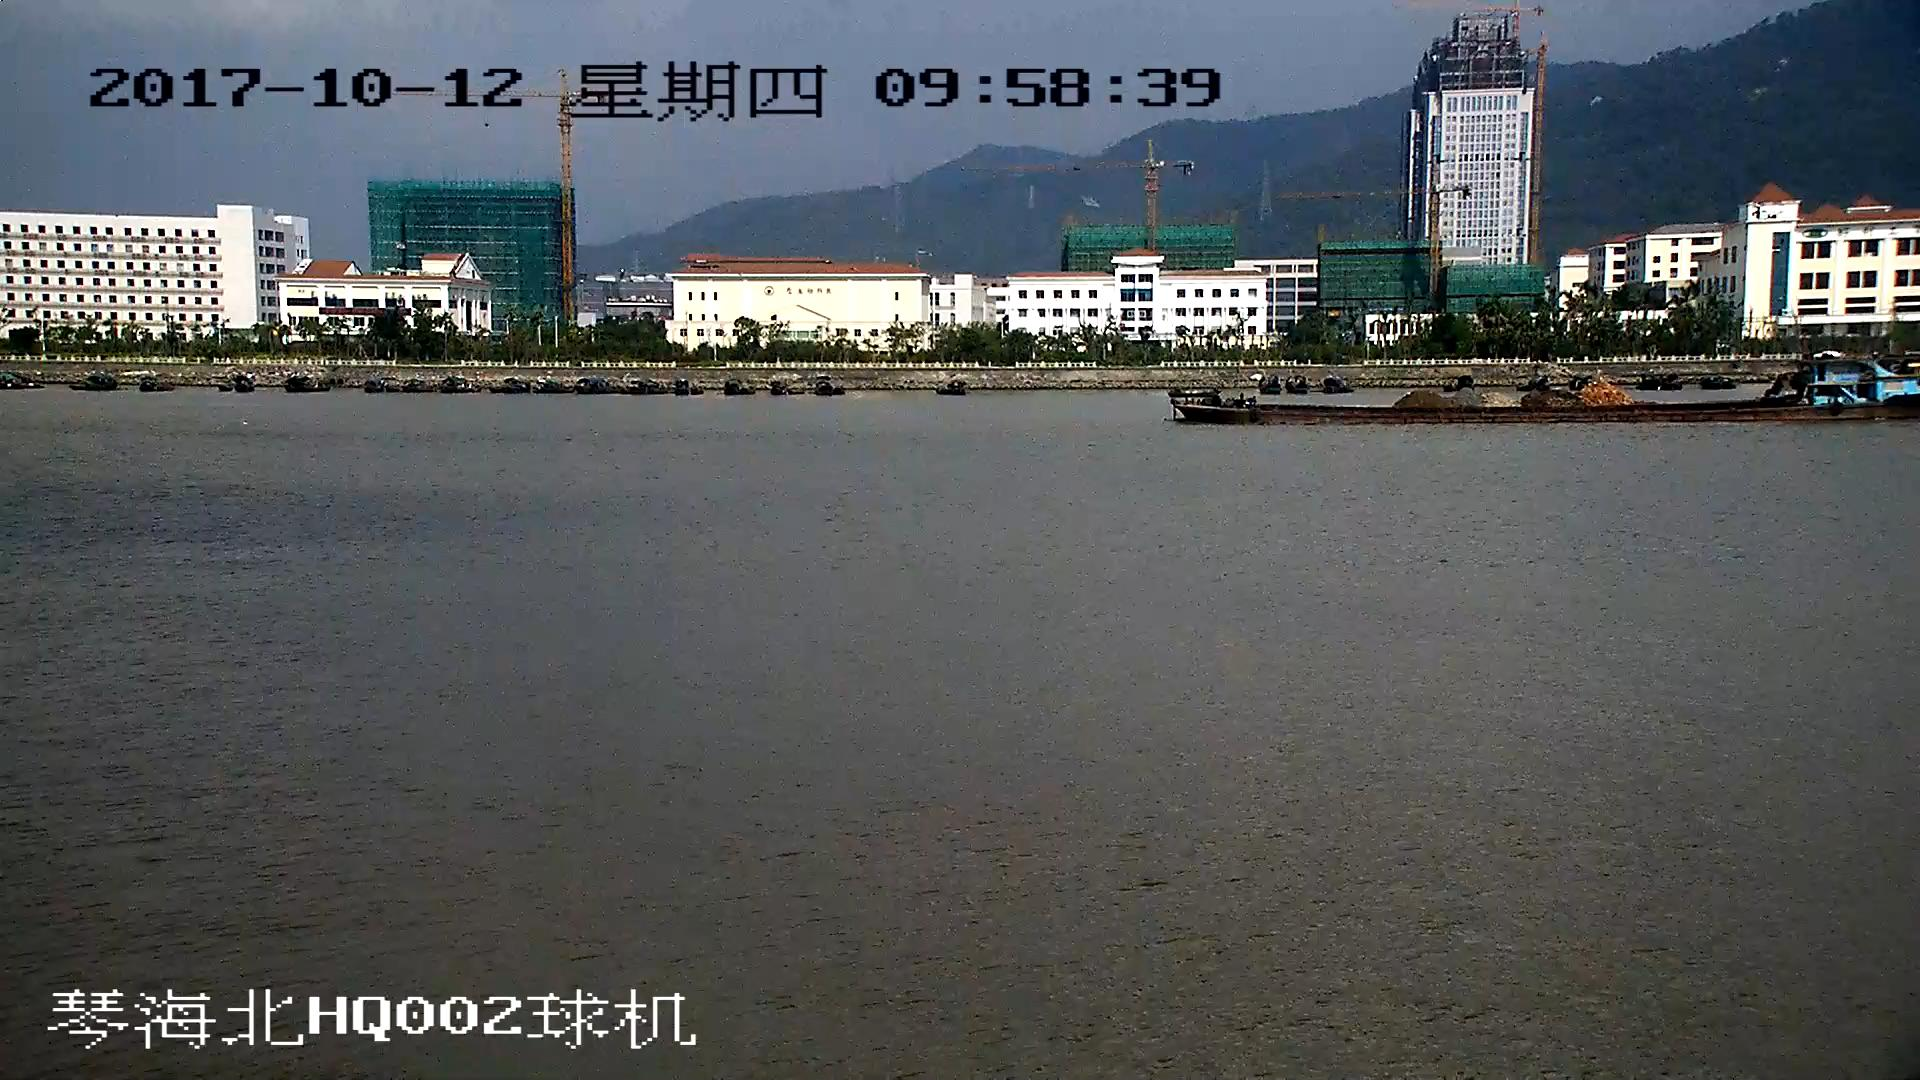ore carrier: (1173, 356, 1920, 421)
